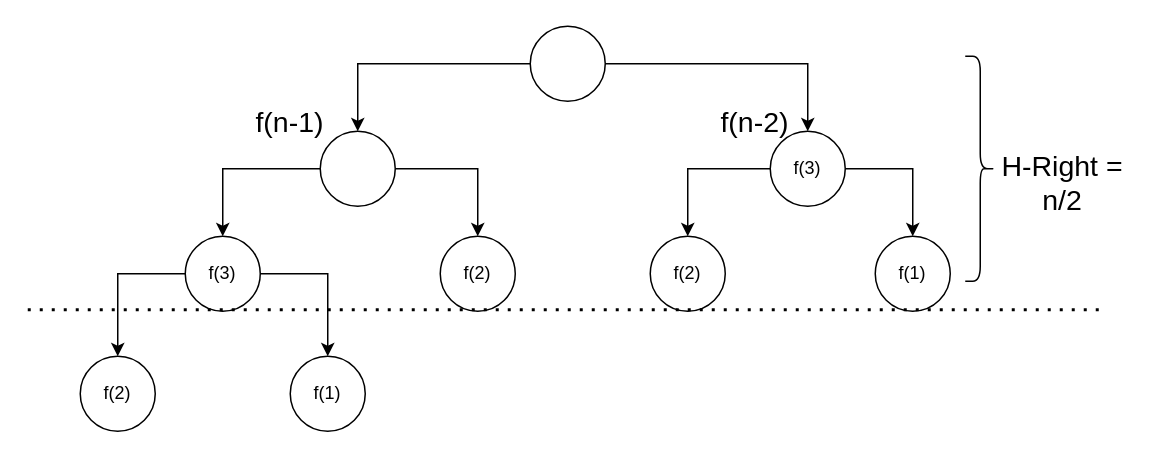
Some shapes in this 1155 by 458 pixel diagram are drawn without their labels. Each missing label, with the centre of its shape:
"f(4)" goes at pixel 357 168.
"f(5)" goes at pixel 567 63.
